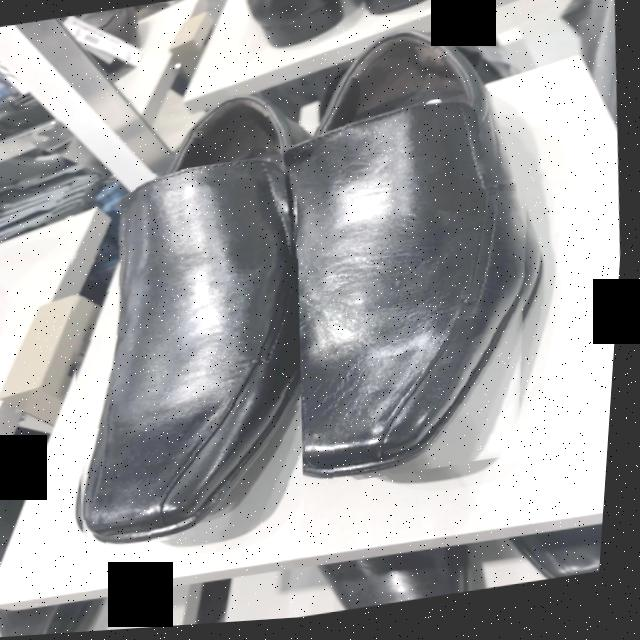shoe: (282, 101, 532, 485), (87, 158, 306, 548)
